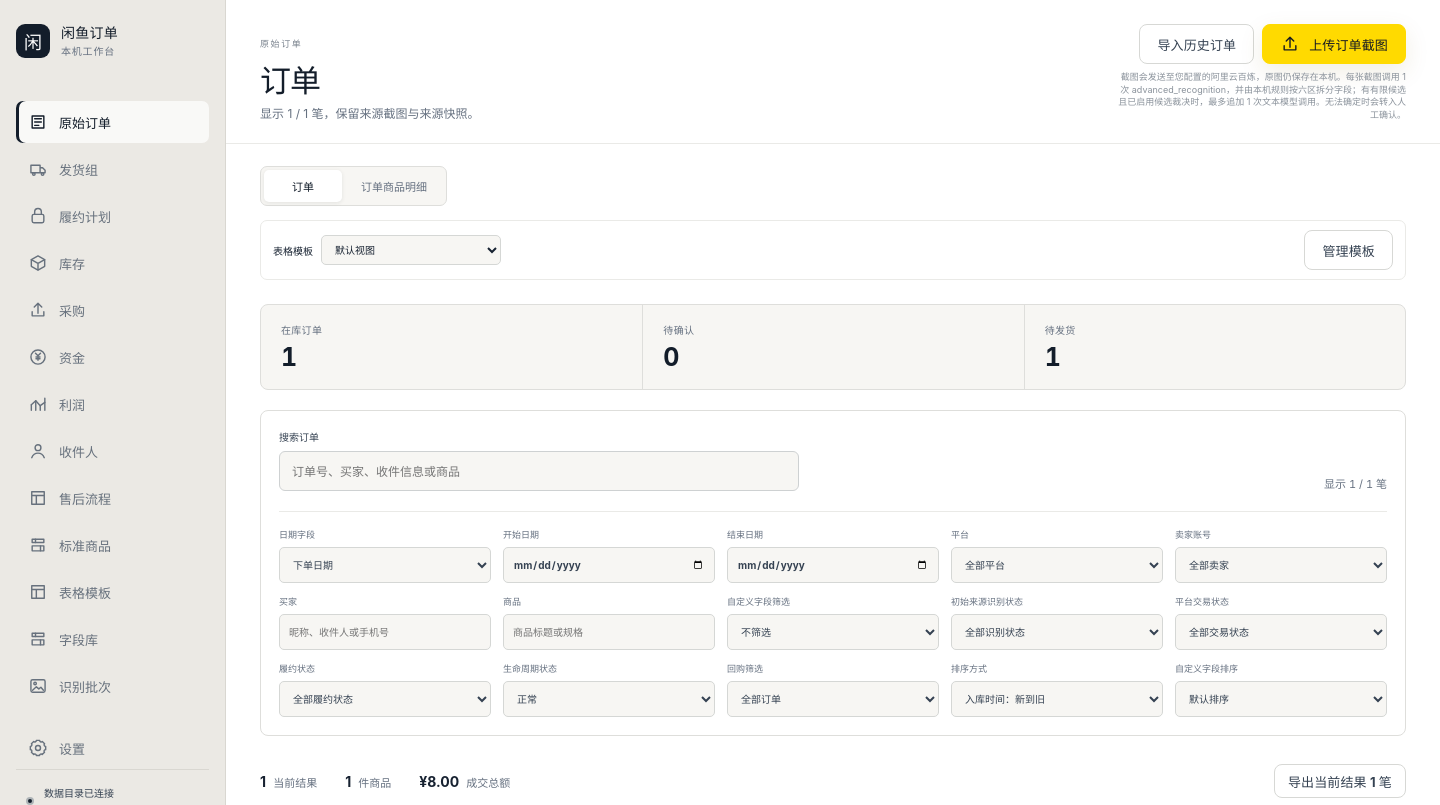
Test: 自定义字段界面 › 可从主导航进入字段库并创建订单级文本字段
Click the button "字段库".
click(112, 639)  # box [16,618,209,660]
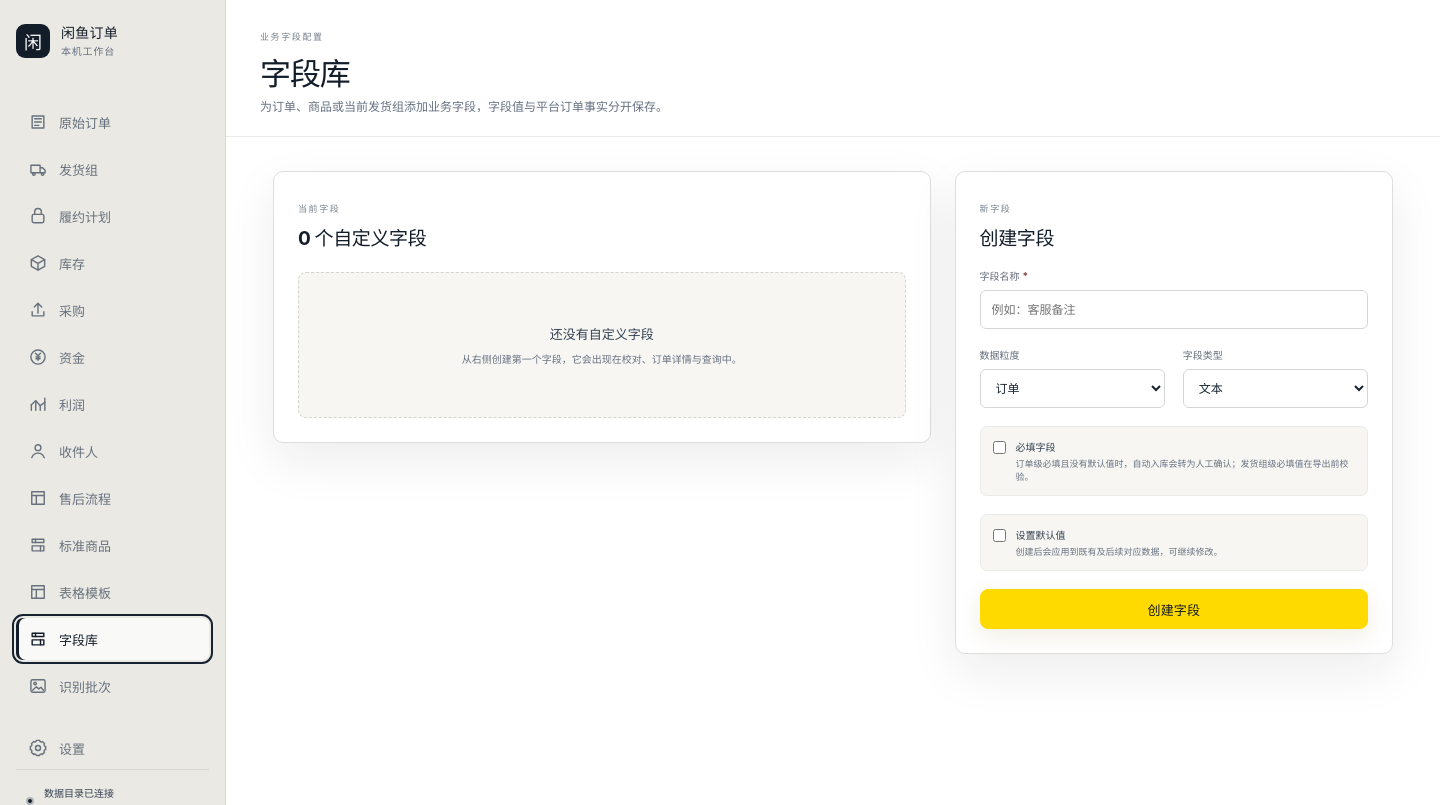
Check: the heading "字段库" is shown, box [260,55,350,92]
Type "客服备注" into the field labelled "字段名称".
click(1174, 310); type("客服备注")  # box [980,290,1368,329]
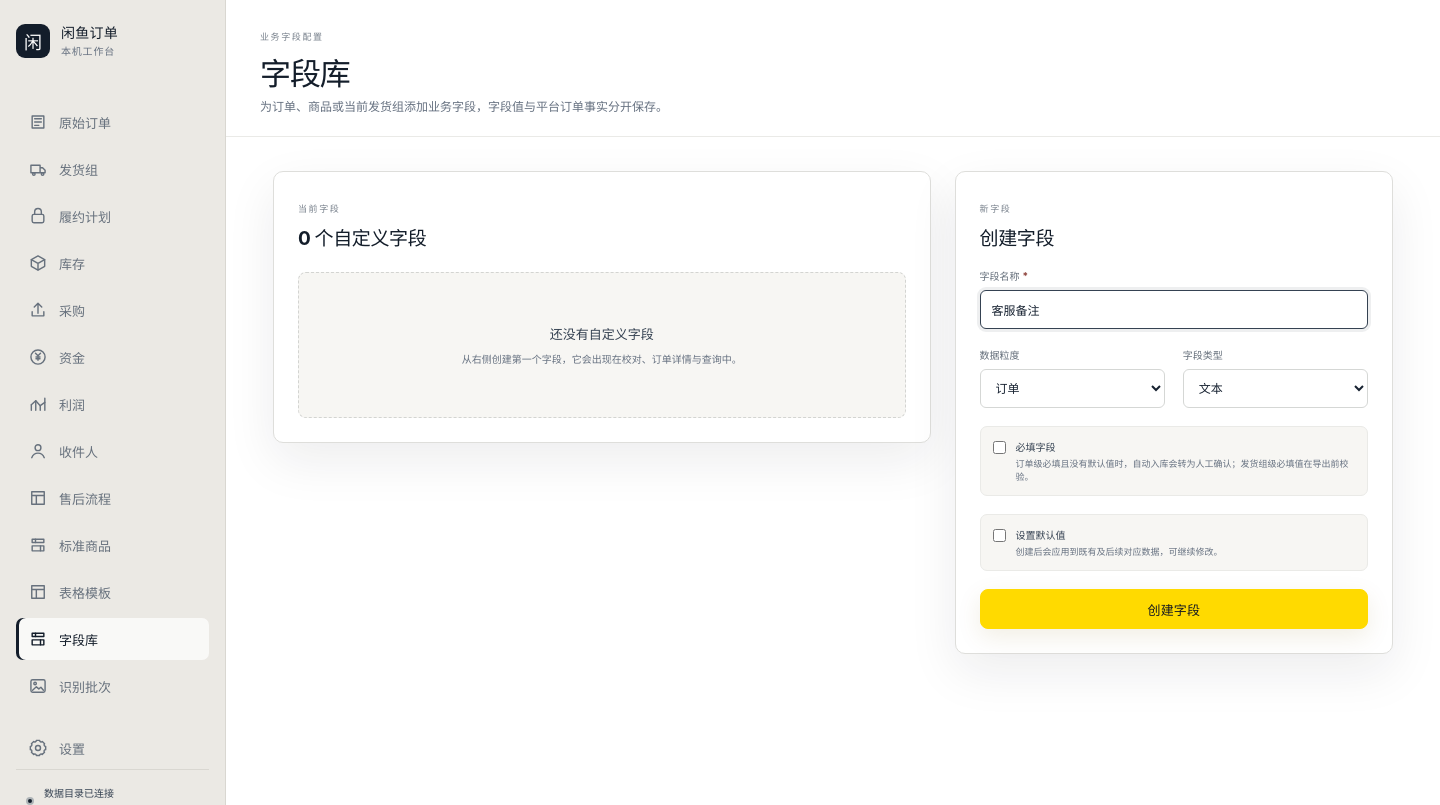
Select "订单" in the dropdown labelled "数据粒度" at [1072, 388], box [980,369,1165,408]
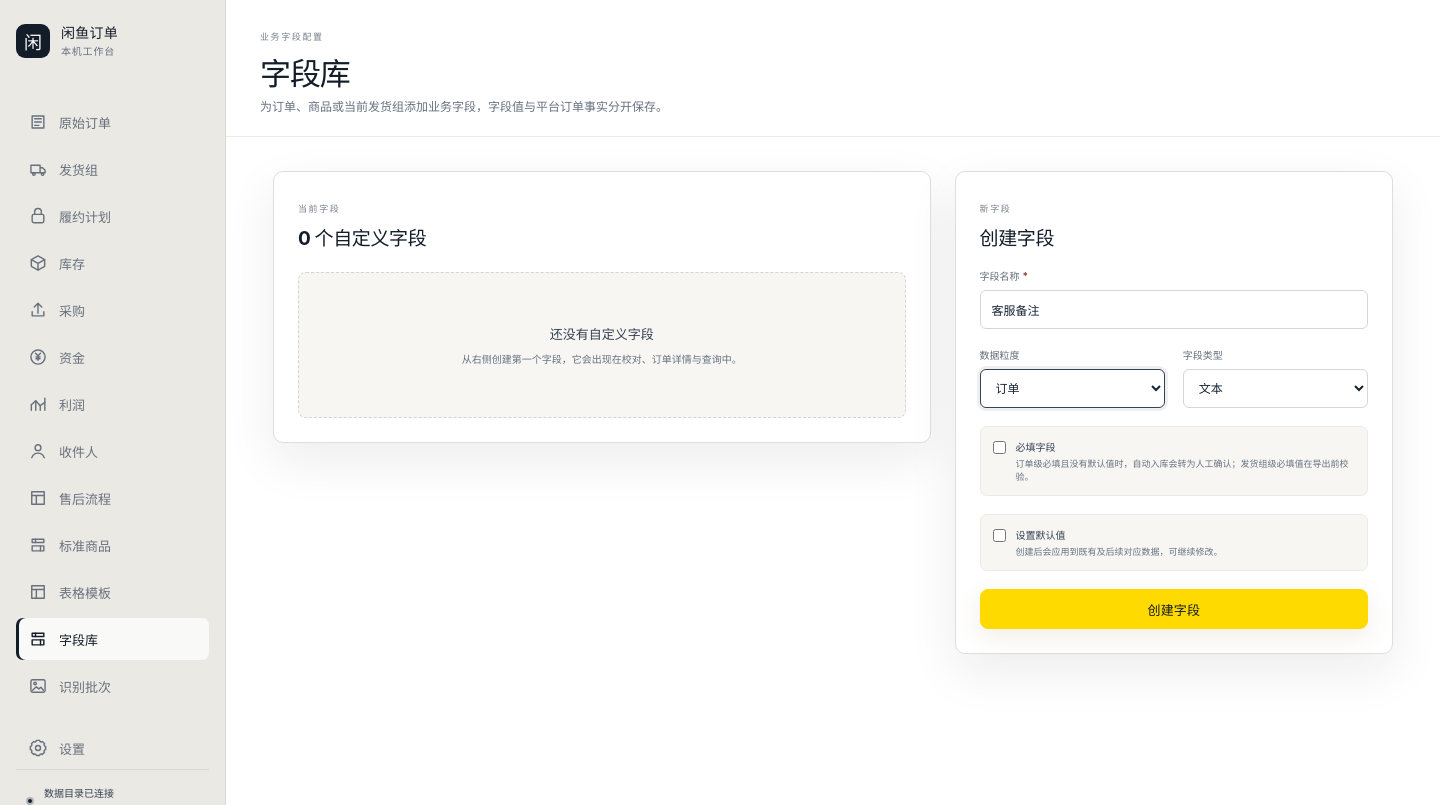
Select "文本" in the dropdown labelled "字段类型" at [1275, 388], box [1183,369,1368,408]
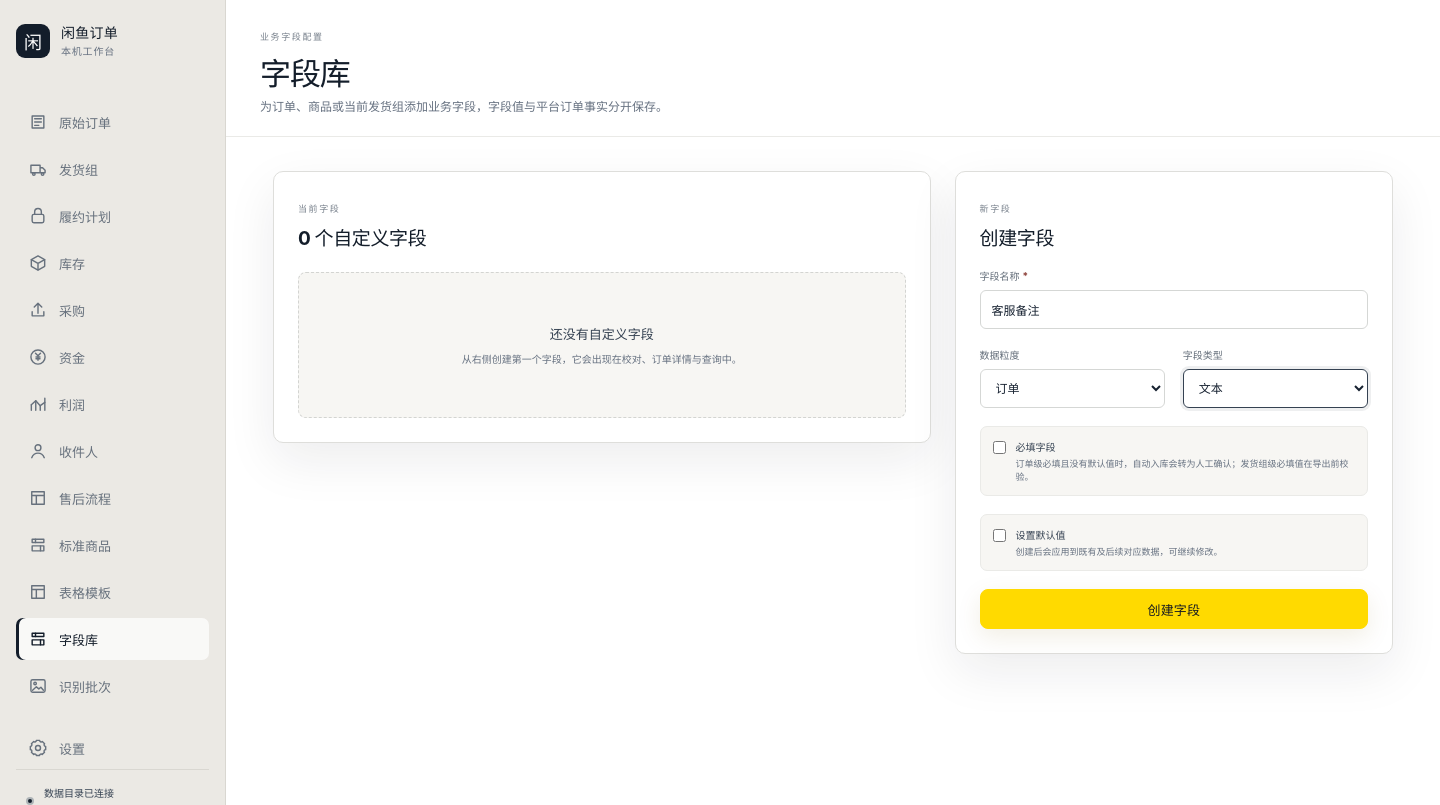
Click the button "创建字段".
click(1174, 609)  # box [980,589,1368,629]
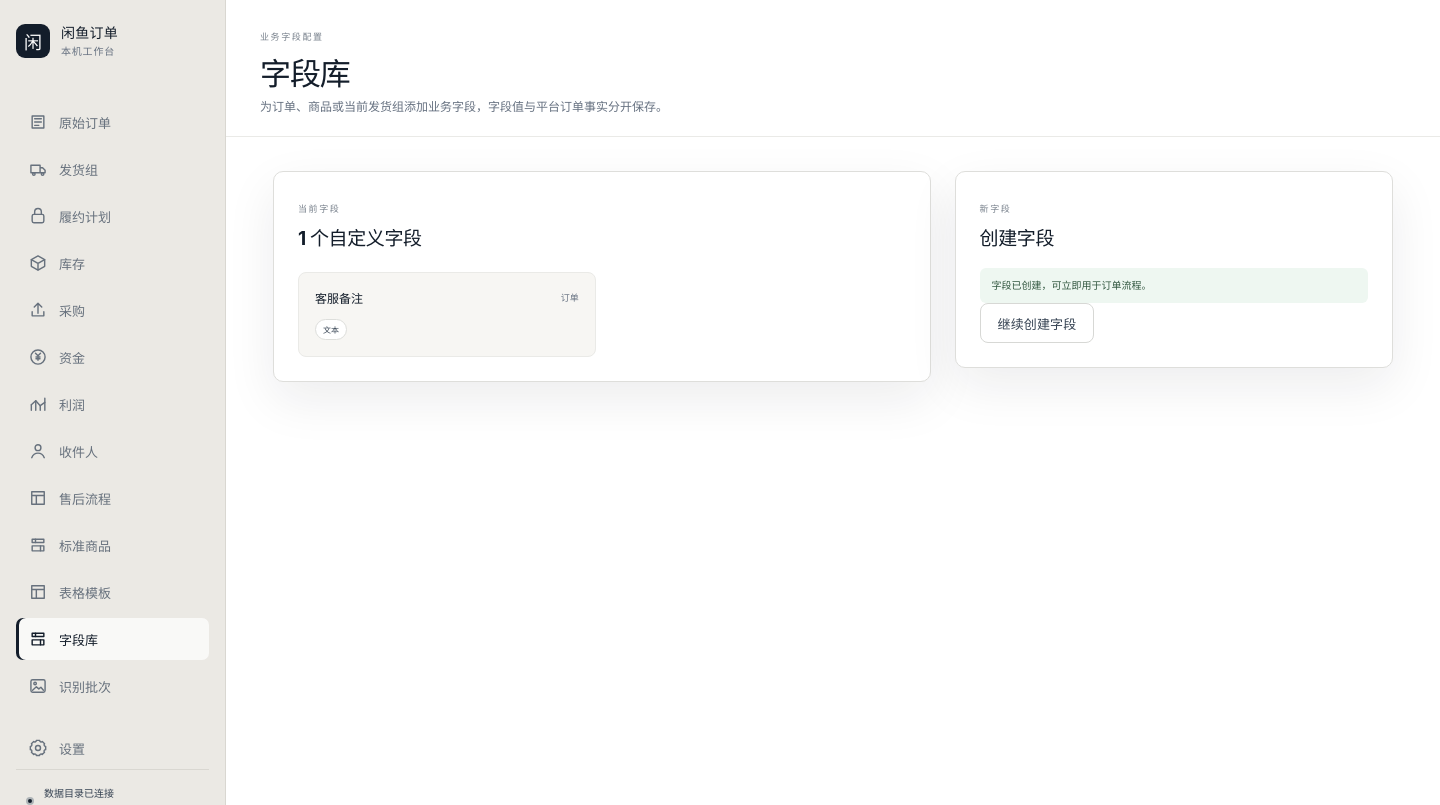
Check: the text "订单" is shown, box [561,291,579,304]
Check: the text "客服备注" is shown, box [315,289,363,306]
Check: the text "文本" is shown, box [315,319,347,340]
